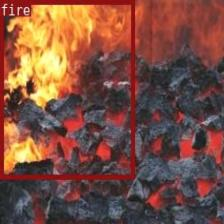fire: (0, 0, 134, 178)
